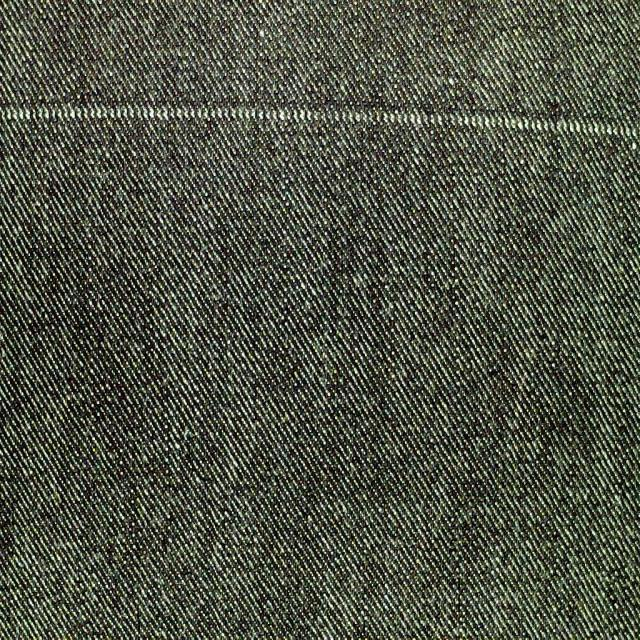Line: (0, 94, 640, 142)
